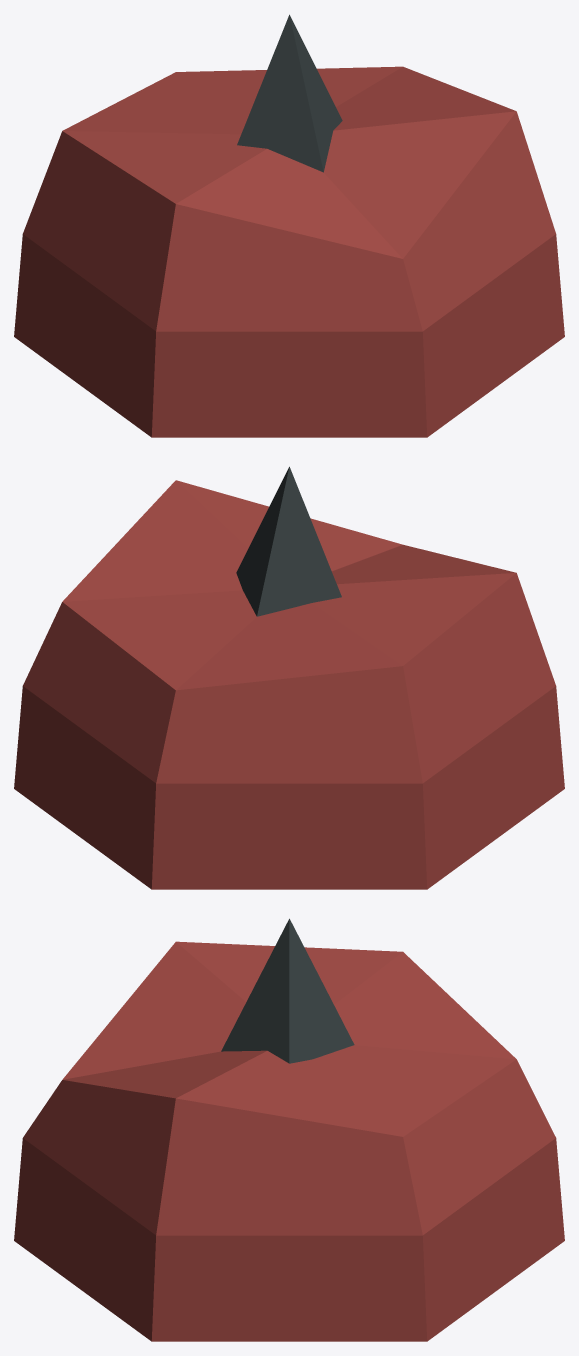
File: Candle_2_Red.fbx
The picture shows the model from 3 angles, top to bottom: view 1: azimuth 30°, elevation 25°; view 2: azimuth 150°, elevation 25°; view 3: azimuth 270°, elevation 25°; orthographic projection.
Visible parts, largest first — view 1: Candle_2_Red; view 2: Candle_2_Red; view 3: Candle_2_Red.
Boxes of the visible parts, bbox=[...] form: Candle_2_Red: bbox=[14, 14, 564, 437]; Candle_2_Red: bbox=[14, 466, 564, 889]; Candle_2_Red: bbox=[14, 918, 564, 1341].
Size of the model in its own units: 14.7 by 10.96 by 16.97.
